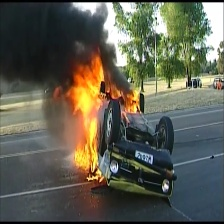fire: (51, 51, 141, 176)
